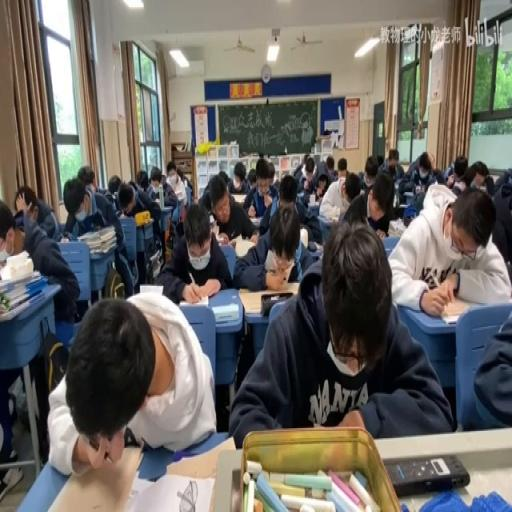calculator: (42, 440, 144, 510), (128, 469, 218, 512), (164, 432, 234, 481), (238, 283, 300, 314), (0, 267, 42, 291), (0, 294, 35, 322), (438, 298, 470, 322), (212, 302, 238, 324), (232, 236, 258, 256), (138, 283, 164, 296), (187, 294, 210, 308), (387, 218, 404, 234), (229, 192, 246, 205), (149, 248, 160, 268), (318, 213, 334, 225), (310, 240, 324, 252), (210, 218, 219, 236), (249, 214, 262, 224), (307, 199, 320, 209), (0, 248, 7, 264), (398, 202, 408, 209), (59, 236, 69, 243)
paper: (227, 218, 444, 445), (48, 286, 214, 473), (388, 182, 511, 312), (0, 196, 43, 460), (160, 200, 230, 303), (470, 306, 511, 428), (66, 175, 126, 253), (117, 178, 164, 274), (262, 171, 322, 243), (343, 171, 397, 240), (14, 181, 60, 240), (401, 149, 437, 199), (318, 178, 353, 222), (444, 154, 470, 189), (226, 160, 248, 194), (470, 162, 490, 192), (77, 165, 97, 193), (409, 189, 427, 218), (198, 179, 212, 211), (493, 169, 512, 192), (384, 161, 403, 182), (266, 159, 278, 191), (325, 154, 338, 180), (107, 174, 122, 196), (293, 156, 306, 180), (136, 168, 149, 190), (246, 166, 258, 186), (150, 166, 162, 186), (432, 166, 445, 184), (337, 158, 347, 180), (218, 168, 230, 186), (13, 209, 24, 228), (176, 166, 186, 185), (166, 161, 177, 176), (128, 179, 138, 192), (389, 150, 398, 164), (402, 162, 411, 175), (428, 151, 434, 168), (376, 155, 383, 168), (160, 174, 166, 186)
person: (386, 452, 470, 496)
